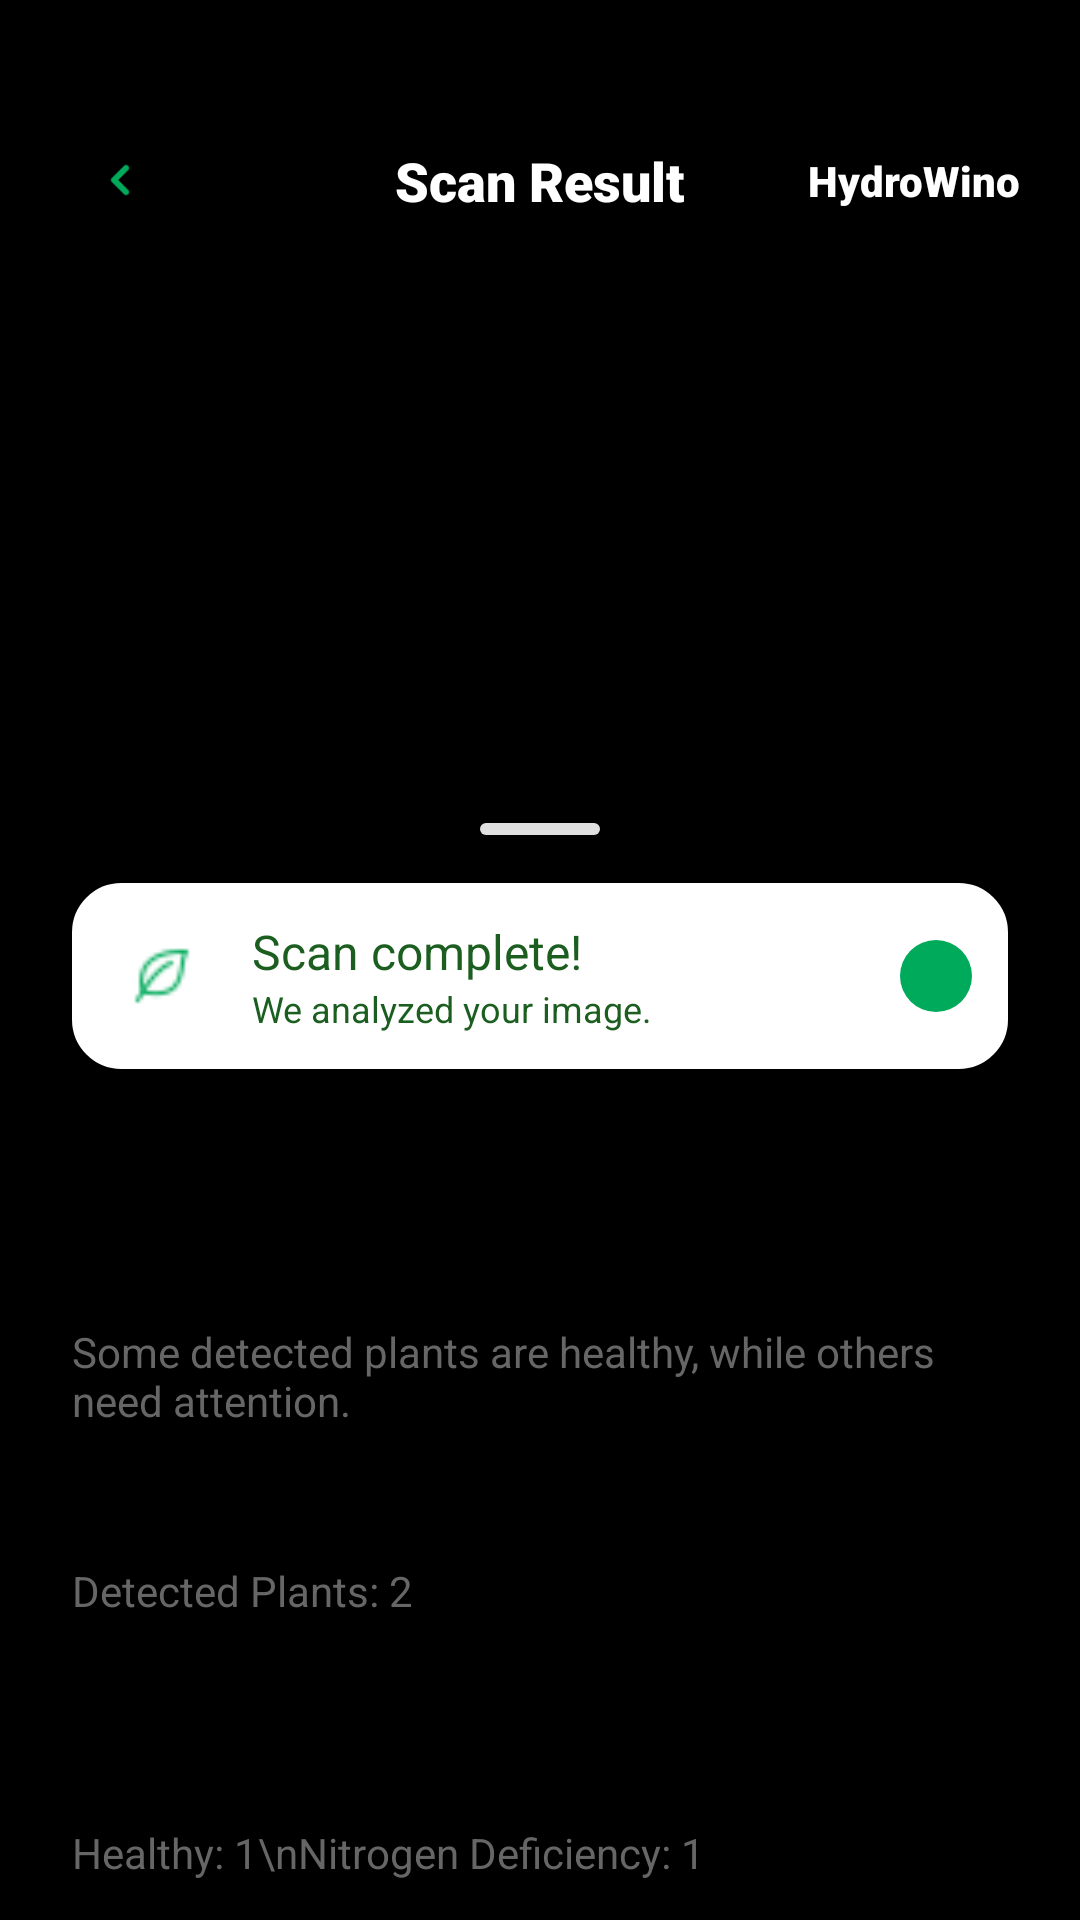

Point at icon controls on the screen. Image size 1080 × 1920, points as (x=x, y=y).
leaf: (x=162, y=976)
lessthan: (x=120, y=180)
